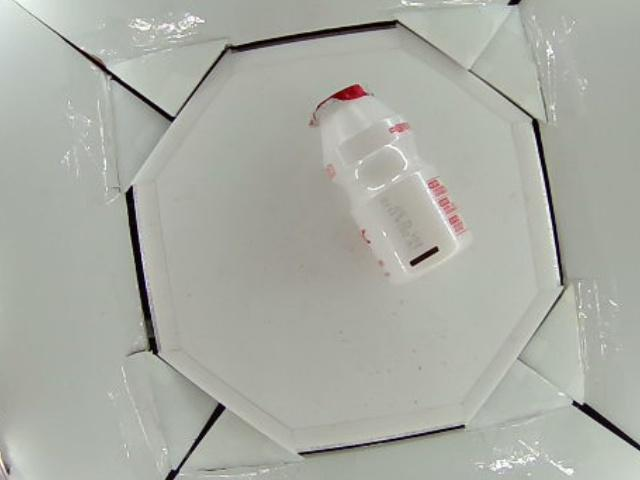Bottle: (308, 84, 471, 285)
